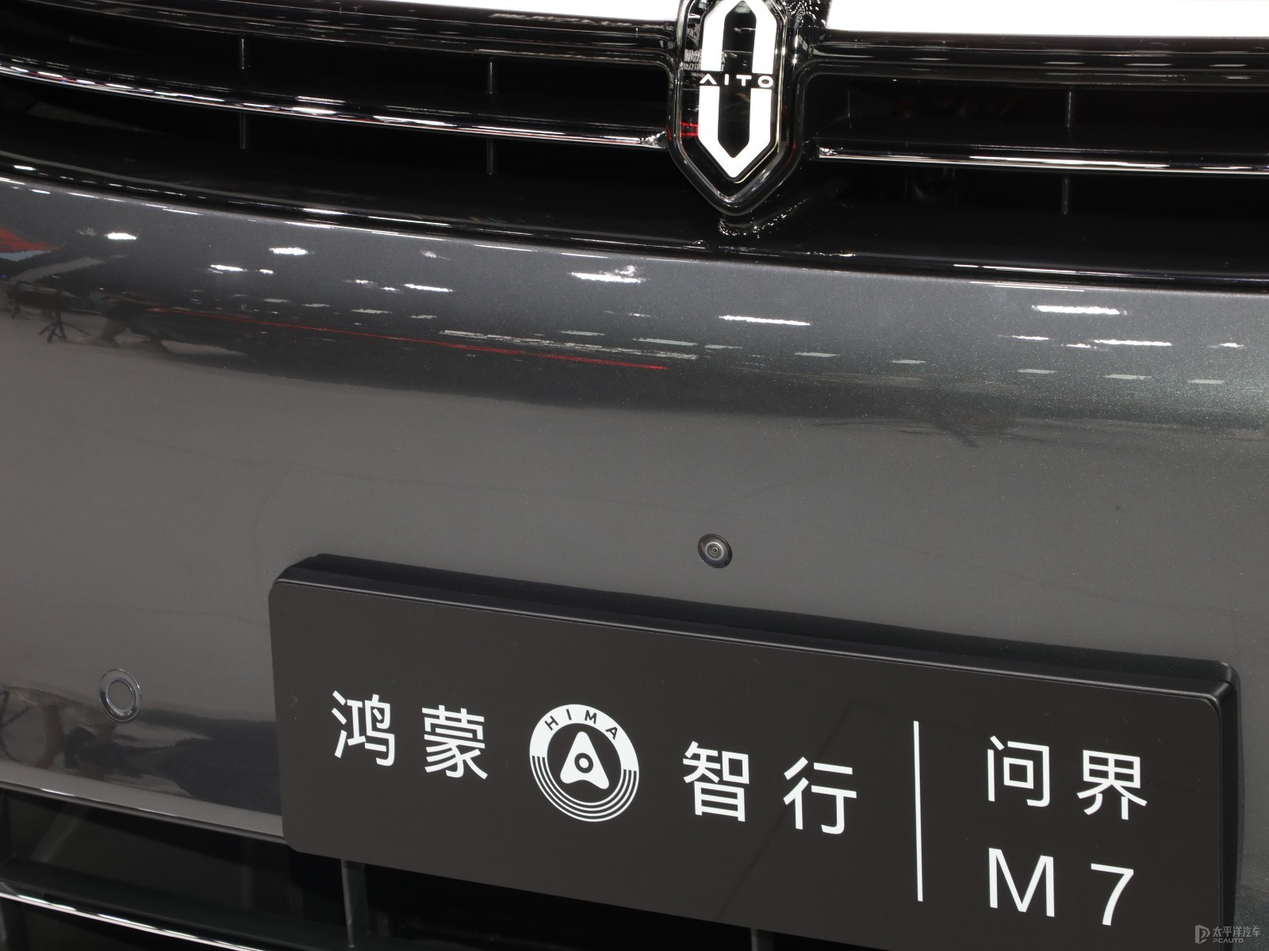AITO: (698, 1, 776, 178)
